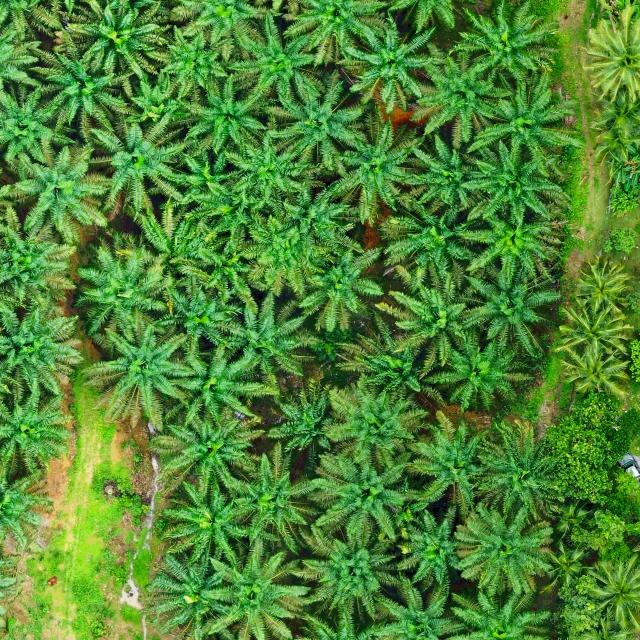Tree: (462, 60, 582, 176), (28, 28, 147, 141), (146, 391, 266, 503), (324, 105, 429, 225), (87, 312, 195, 428), (0, 138, 117, 245), (83, 111, 199, 217), (71, 226, 176, 342), (408, 39, 518, 147), (207, 535, 319, 640), (294, 519, 407, 623), (225, 435, 323, 552), (223, 3, 324, 116), (333, 12, 442, 116), (271, 65, 368, 176), (333, 307, 445, 403), (222, 115, 328, 216), (459, 131, 572, 224), (310, 444, 413, 546), (453, 499, 553, 603), (211, 286, 319, 382), (454, 0, 564, 92), (476, 412, 566, 522), (323, 370, 433, 460), (52, 0, 173, 81), (422, 327, 536, 412), (162, 346, 283, 425), (454, 198, 569, 278), (404, 407, 494, 508), (0, 297, 88, 400), (460, 263, 563, 351), (131, 192, 236, 278), (174, 71, 276, 158), (232, 213, 335, 299), (0, 202, 80, 312), (147, 548, 238, 640), (372, 283, 476, 362), (156, 478, 245, 569), (0, 378, 76, 484), (298, 242, 385, 333), (379, 193, 479, 271), (0, 73, 70, 180), (362, 572, 468, 640), (401, 127, 487, 210), (280, 0, 389, 61), (158, 270, 238, 353), (143, 22, 234, 94), (447, 583, 554, 640), (578, 12, 640, 108), (395, 506, 468, 587), (0, 460, 60, 556), (266, 375, 341, 451), (274, 179, 354, 242), (557, 296, 636, 359), (579, 553, 640, 632), (170, 0, 280, 42), (285, 603, 393, 640), (560, 344, 632, 399), (179, 147, 244, 207), (573, 253, 634, 315), (0, 10, 44, 88), (536, 538, 591, 594), (389, 0, 478, 33), (593, 89, 640, 140), (565, 609, 640, 639)
